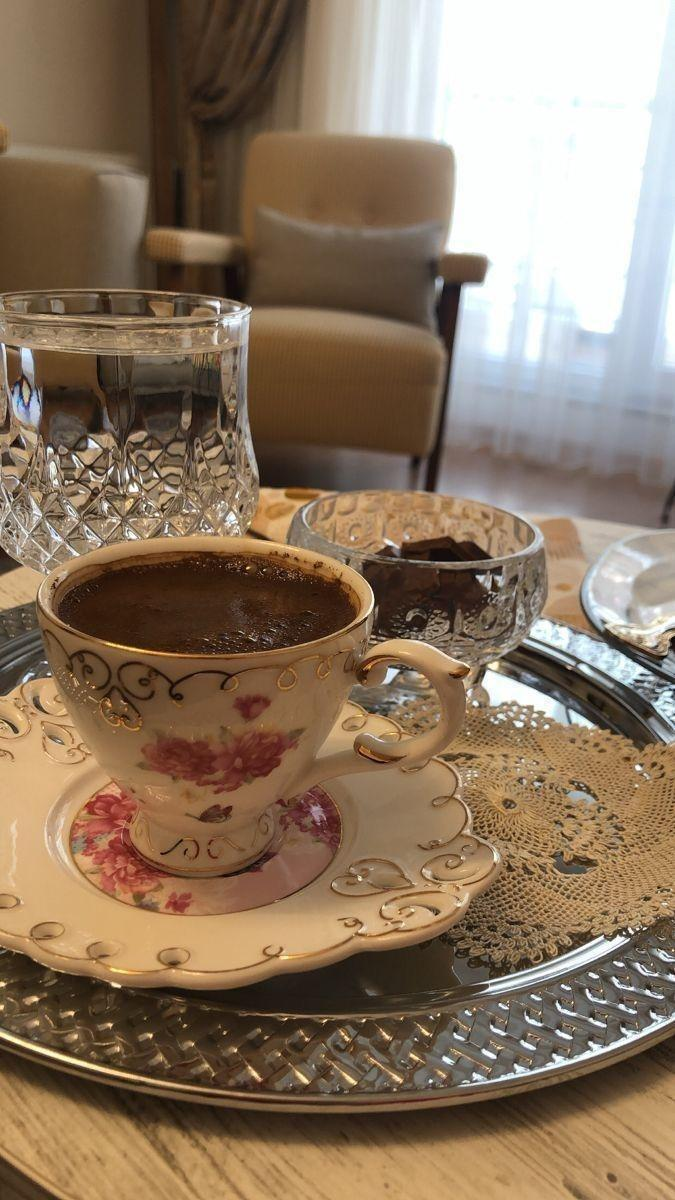cup-handle: (31, 531, 459, 877)
glass-normal: (1, 284, 261, 563)
glass-wine: (289, 486, 557, 715)
